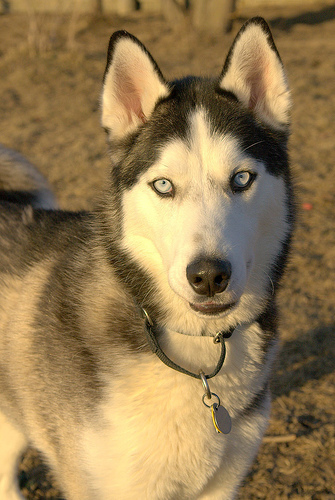dog: (0, 13, 300, 498)
